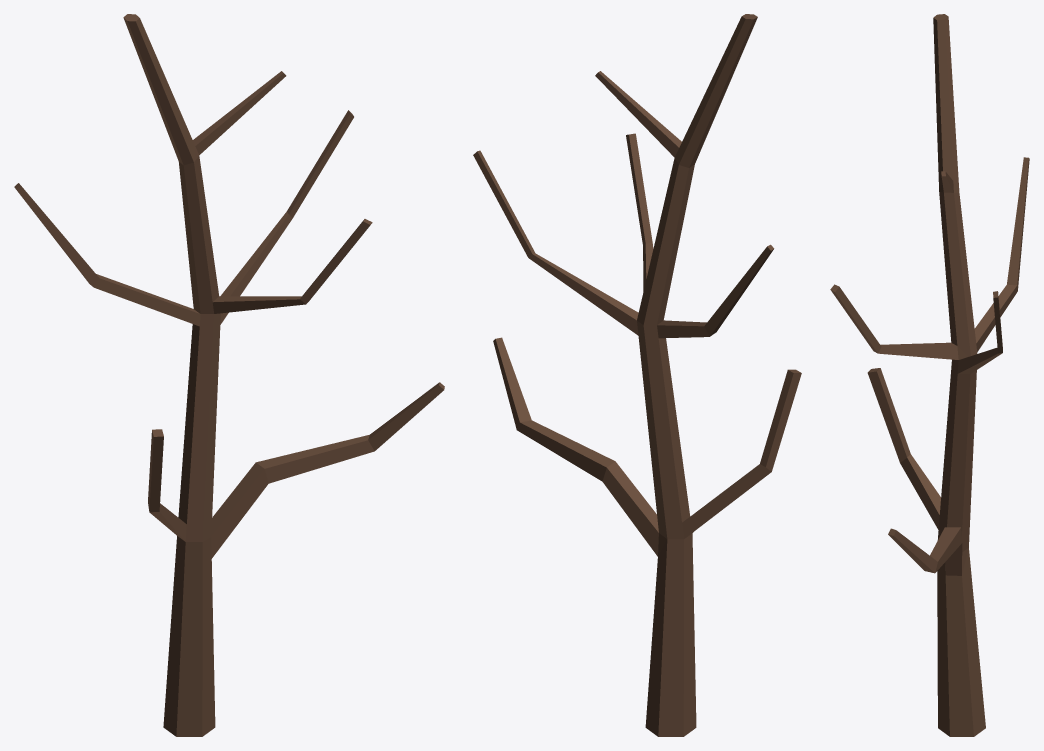
Rendered from baretree4.fbx.
3 renders of one model, left to right at view 1: azimuth 30°, elevation 25°; view 2: azimuth 150°, elevation 25°; view 3: azimuth 270°, elevation 25°, orthographic. The views are drawn at different scales.
Visible parts, largest first — view 1: baretree4; view 2: baretree4; view 3: baretree4.
Boxes of the visible parts, x1,y1,x2,y2 form: baretree4: [14, 14, 444, 736]; baretree4: [473, 14, 801, 736]; baretree4: [830, 14, 1029, 736].
Bounding box in the file's own units: 222 × 435 × 116.
